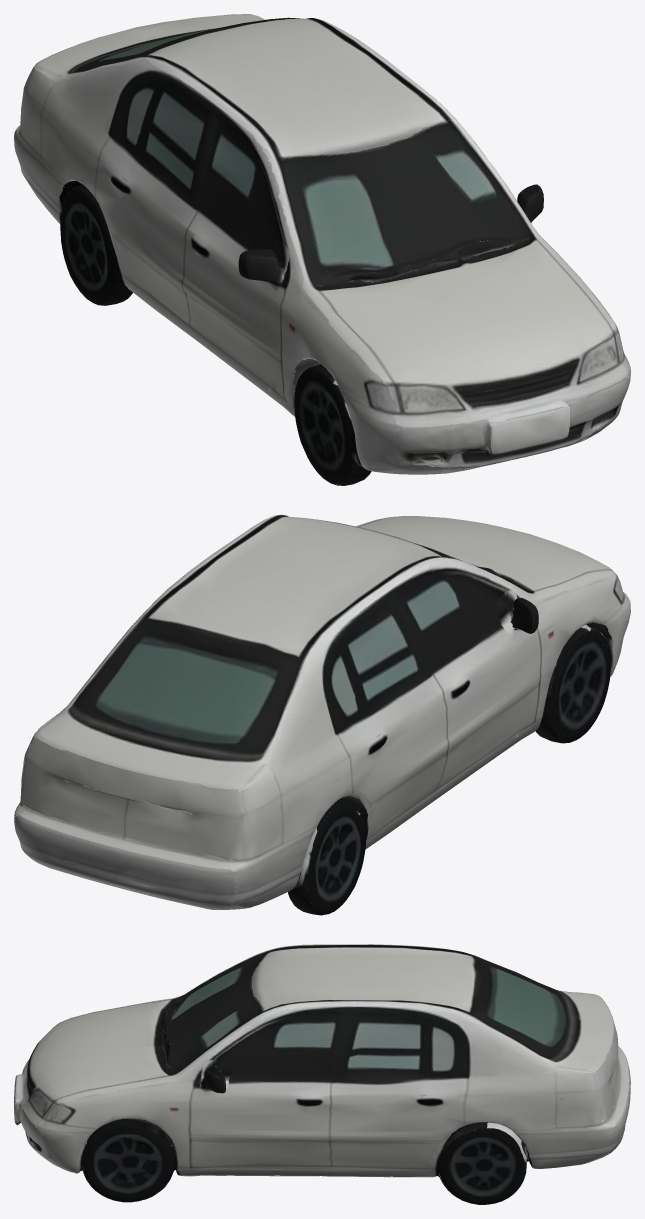
File: sedan.glb
3 views of the same model, one above another, from view 1: azimuth 30°, elevation 25°; view 2: azimuth 150°, elevation 25°; view 3: azimuth 270°, elevation 25° (orthographic). The views are drawn at different scales.
Visible parts, largest first — view 1: sedan; view 2: sedan; view 3: sedan.
Part boxes in pixels (bbox=[...]): sedan: bbox=[14, 14, 630, 485]; sedan: bbox=[14, 514, 630, 915]; sedan: bbox=[14, 944, 630, 1204].
Size of the model in its own units: 1.74 by 1.45 by 4.3.
Materials: 1 (1 with a texture image).
